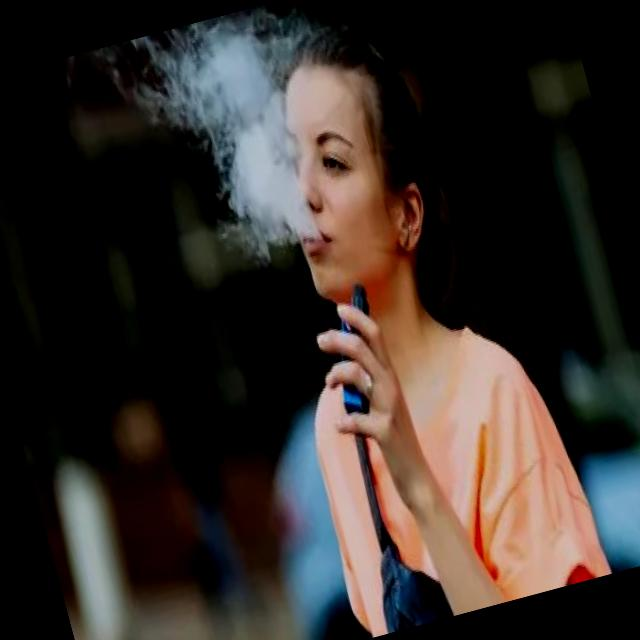cigarette: (311, 276, 399, 424)
